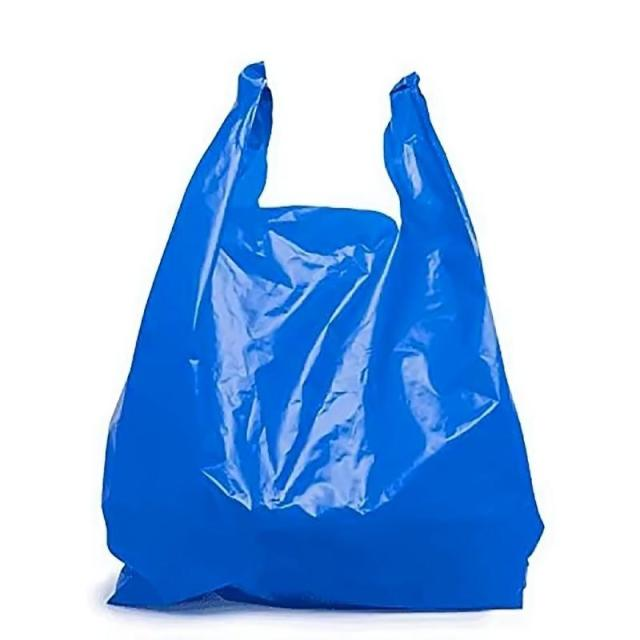plastic bag: (12, 0, 610, 615)
